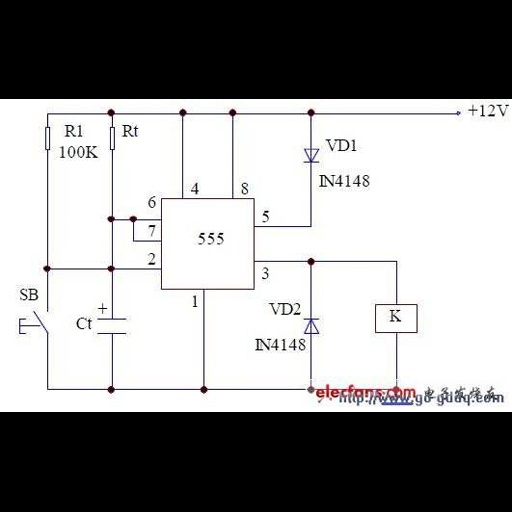firstpolarcapacitor: (97, 299, 130, 341)
firstresistance: (39, 124, 54, 153), (107, 124, 119, 154)
seconddiode: (298, 315, 325, 337), (300, 144, 321, 168)
